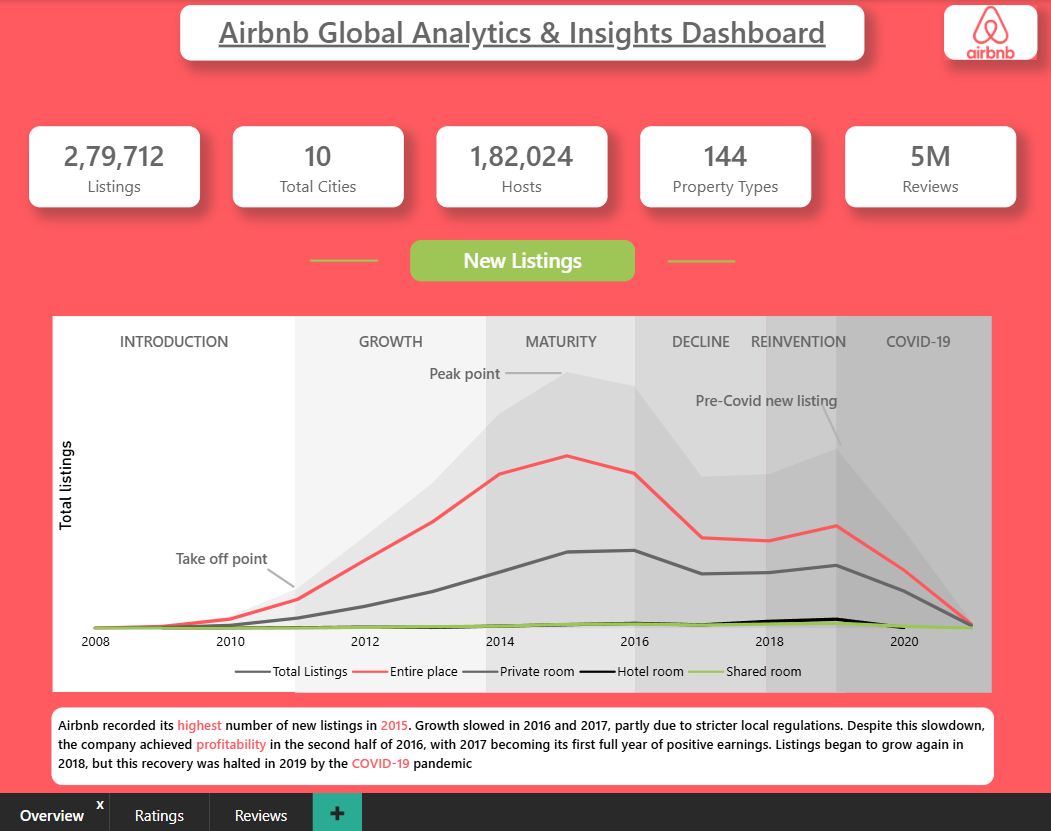

This screenshot's page, from the dashboard's own definition file:
{"tool":"powerbi","page":{"name":"Overview","canvas":[960,720],"ordinal":0},"visuals":[{"type":"textbox","box":[169.4,5,621,50],"z":0},{"type":"image","box":[862,4.5,85.1,49.9],"z":1000},{"type":"cardVisual","fields":{"Data":["Listings.Listings"]},"box":[31.8,114.1,155.4,73.7],"z":2000},{"type":"cardVisual","fields":{"Data":["Count(Reviews.review_id)"]},"box":[772,114.1,155.4,73.7],"z":3000},{"type":"cardVisual","fields":{"Data":["Count(Listings.property_type)"]},"box":[586.9,114.1,155.4,73.7],"z":4000},{"type":"cardVisual","fields":{"Data":["Count(Listings.host_id)"]},"box":[401.9,114.1,155.4,73.7],"z":5000},{"type":"cardVisual","fields":{"Data":["Count(Listings.city)"]},"box":[216.8,114.1,155.4,73.7],"z":6000},{"type":"textbox","box":[377.9,217.8,204.2,37.4],"z":7000},{"type":"shape","box":[287,220,61.2,32.9],"z":8000},{"type":"shape","box":[52.8,287,220.7,340.9],"z":9000},{"type":"shape","box":[273.3,287,173.5,341.4],"z":10000},{"type":"shape","box":[446.9,287,135,341.4],"z":11000},{"type":"shape","box":[581.9,287,119.1,341.4],"z":12000},{"type":"shape","box":[700.9,287,71.5,341.4],"z":13000},{"type":"shape","box":[764.5,287,140.6,341.4],"z":14000},{"type":"shape","box":[611.3,221.2,61.2,32],"z":15000},{"type":"lineChart","fields":{"Category":["Listings.host_since.Variation.Date Hierarchy.Year"],"Y":["CountNonNull(Listings.listing_id)","Listings.Entire place","Listings.Private room","Listings.Hotal room","Listings.Shared room"]},"box":[51.8,287,852.9,340.9],"z":16000},{"type":"textbox","box":[73.7,296,179.2,38.6],"z":17000},{"type":"textbox","box":[287,296,146.3,28.4],"z":18000},{"type":"textbox","box":[446.9,296,135,38.6],"z":19000},{"type":"textbox","box":[581.9,296,119.1,38.6],"z":20000},{"type":"textbox","box":[681.7,296,108.9,38.6],"z":21000},{"type":"textbox","box":[772.4,296,132.7,38.6],"z":22000},{"type":"textbox","box":[150.9,492.3,111.2,32.9],"z":23000},{"type":"shape","box":[247.3,513.8,26.1,21.6],"z":24000},{"type":"textbox","box":[377.7,324.4,98.7,35.2],"z":25000},{"type":"shape","box":[463.9,310.8,51,55.6],"z":26000},{"type":"textbox","box":[626.1,349.3,149.7,34],"z":27000},{"type":"shape","box":[729.3,366.4,61.2,38.6],"z":28000},{"type":"textbox","box":[52.2,642,855.2,70.3],"z":29000}]}

Visuals, with their boxes on the page's 960x720 design canvas (x1, y1, x2, y2). These are canvas units, not pixel positions in the 1051x831 screenshot, which may show the page scaled, cropped or inside an application window:
textbox: box=[169, 5, 790, 55]
image: box=[862, 4, 947, 54]
cardVisual - Listings.Listings: box=[32, 114, 187, 188]
cardVisual - Count(Reviews.review_id): box=[772, 114, 927, 188]
cardVisual - Count(Listings.property_type): box=[587, 114, 742, 188]
cardVisual - Count(Listings.host_id): box=[402, 114, 557, 188]
cardVisual - Count(Listings.city): box=[217, 114, 372, 188]
textbox: box=[378, 218, 582, 255]
shape: box=[287, 220, 348, 253]
shape: box=[53, 287, 274, 628]
shape: box=[273, 287, 447, 628]
shape: box=[447, 287, 582, 628]
shape: box=[582, 287, 701, 628]
shape: box=[701, 287, 772, 628]
shape: box=[764, 287, 905, 628]
shape: box=[611, 221, 672, 253]
lineChart - Listings.host_since.Variation.Date Hierarchy.Year x CountNonNull(Listings.listing_id): box=[52, 287, 905, 628]
textbox: box=[74, 296, 253, 335]
textbox: box=[287, 296, 433, 324]
textbox: box=[447, 296, 582, 335]
textbox: box=[582, 296, 701, 335]
textbox: box=[682, 296, 791, 335]
textbox: box=[772, 296, 905, 335]
textbox: box=[151, 492, 262, 525]
shape: box=[247, 514, 273, 535]
textbox: box=[378, 324, 476, 360]
shape: box=[464, 311, 515, 366]
textbox: box=[626, 349, 776, 383]
shape: box=[729, 366, 790, 405]
textbox: box=[52, 642, 907, 712]
